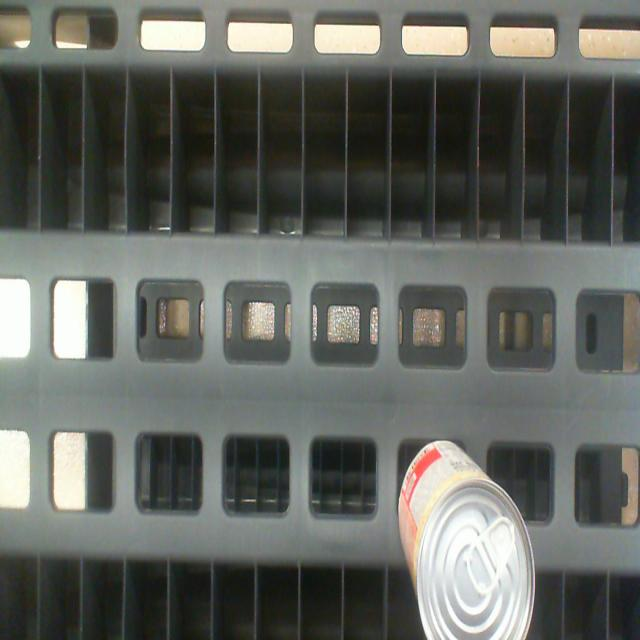can: (417, 484, 535, 640)
